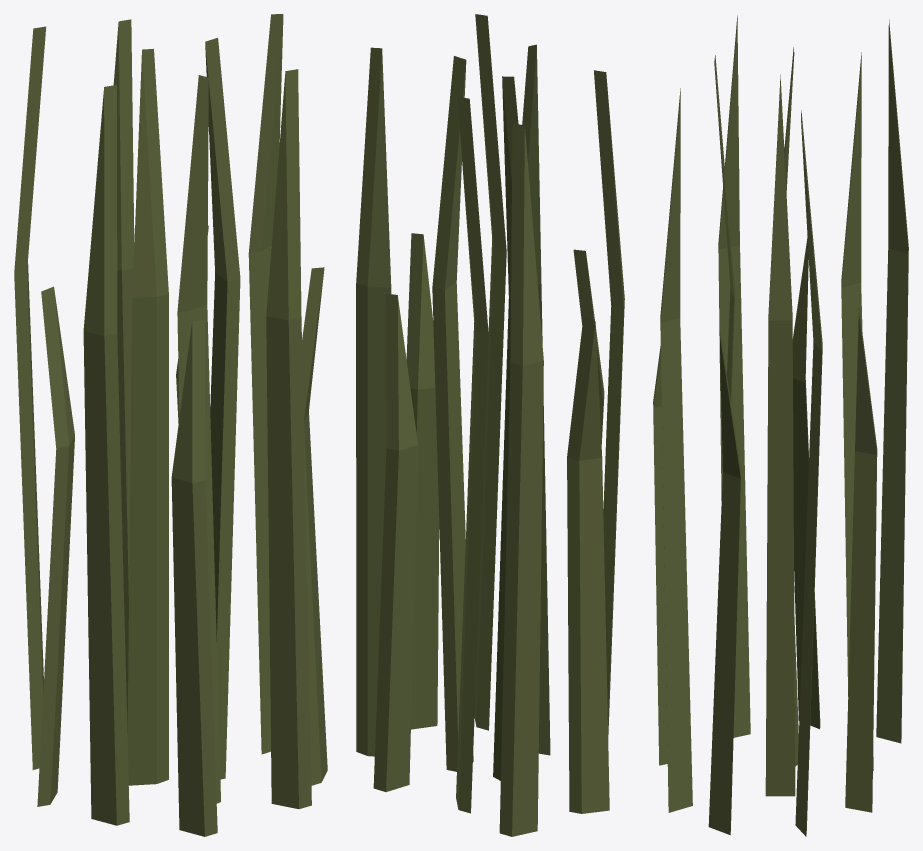
File: reeds-0IkgwdeS.glb
The picture shows the model from 3 angles, left to right: view 1: azimuth 30°, elevation 25°; view 2: azimuth 150°, elevation 25°; view 3: azimuth 270°, elevation 25°; orthographic projection. The views are drawn at different scales.
Parts seen in each view (by area): view 1: Grass; view 2: Grass; view 3: Grass.
Boxes of the visible parts, bbox=[...] form: Grass: bbox=[14, 14, 327, 836]; Grass: bbox=[356, 14, 624, 836]; Grass: bbox=[653, 15, 908, 836].
Bounding box in the file's own units: 0.3738 × 1.01 × 0.3272.
